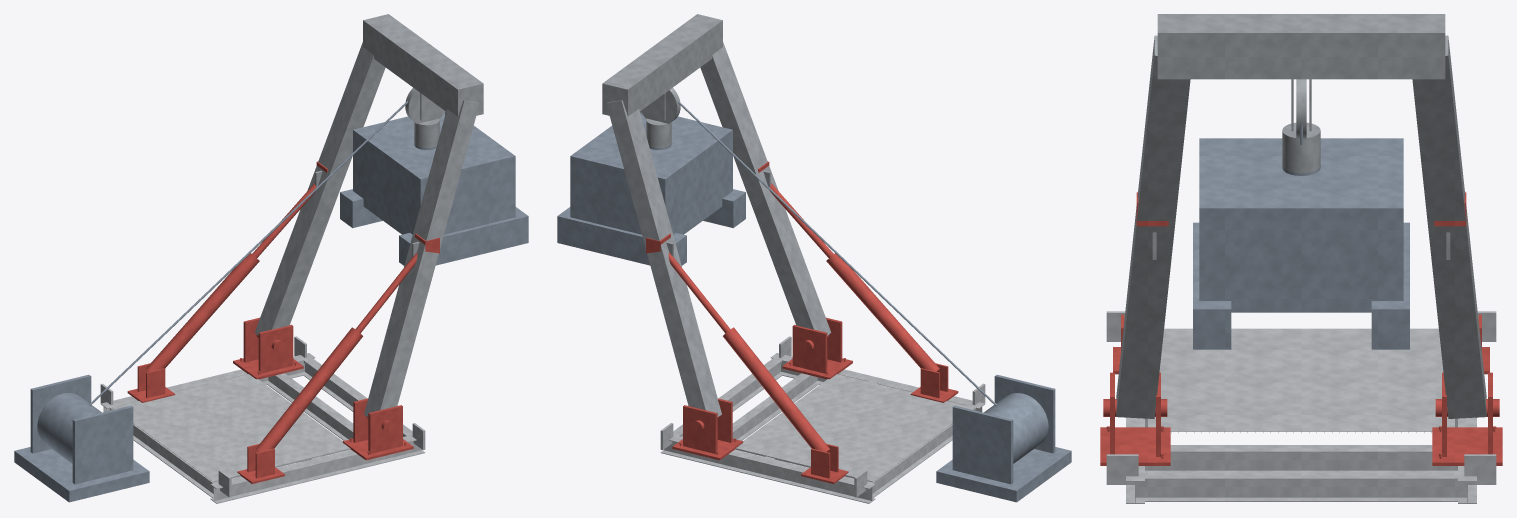
Rendered from launch-and-recovery-a-frames.glb.
The picture shows the model from 3 angles, left to right: view 1: azimuth 30°, elevation 25°; view 2: azimuth 150°, elevation 25°; view 3: azimuth 270°, elevation 25°; orthographic projection. The views are drawn at different scales.
Parts seen in each view (by area): view 1: BaseSkid, A-FrameLegs, SeabedVehicle(context), Winch&Wire(context), CylinderBrackets, CrossBeam,Sheave&Snubber, PivotClevises; view 2: BaseSkid, A-FrameLegs, SeabedVehicle(context), Winch&Wire(context), CylinderBrackets, CrossBeam,Sheave&Snubber, PivotClevises; view 3: BaseSkid, SeabedVehicle(context), A-FrameLegs, CrossBeam,Sheave&Snubber, PivotClevises, CylinderBrackets.
Part boxes in pixels (x1=…): BaseSkid: x1=100, y1=336, x2=425, y2=503; A-FrameLegs: x1=254, y1=42, x2=479, y2=416; SeabedVehicle(context): x1=340, y1=112, x2=528, y2=265; Winch&Wire(context): x1=14, y1=100, x2=445, y2=502; CylinderBrackets: x1=127, y1=161, x2=439, y2=483; CrossBeam,Sheave&Snubber: x1=363, y1=14, x2=483, y2=148; PivotClevises: x1=233, y1=317, x2=413, y2=460; BaseSkid: x1=660, y1=336, x2=985, y2=503; A-FrameLegs: x1=606, y1=42, x2=831, y2=416; SeabedVehicle(context): x1=557, y1=112, x2=745, y2=265; Winch&Wire(context): x1=640, y1=100, x2=1071, y2=502; CylinderBrackets: x1=646, y1=161, x2=958, y2=483; CrossBeam,Sheave&Snubber: x1=602, y1=14, x2=722, y2=148; PivotClevises: x1=672, y1=317, x2=852, y2=460; BaseSkid: x1=1106, y1=311, x2=1496, y2=503; SeabedVehicle(context): x1=1193, y1=138, x2=1409, y2=349; A-FrameLegs: x1=1116, y1=35, x2=1486, y2=418; CrossBeam,Sheave&Snubber: x1=1157, y1=14, x2=1445, y2=173; PivotClevises: x1=1100, y1=372, x2=1502, y2=465; CylinderBrackets: x1=1113, y1=192, x2=1489, y2=374.
Bounding box in the file's own units: 12.34 × 9.02 × 6.3.
Materials: 4 (4 with a texture image).
